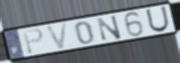0: (73, 20, 98, 45)
6: (124, 11, 146, 38)
N: (95, 14, 123, 42)
P: (22, 27, 45, 56)
U: (145, 5, 171, 33)
V: (44, 21, 70, 51)
